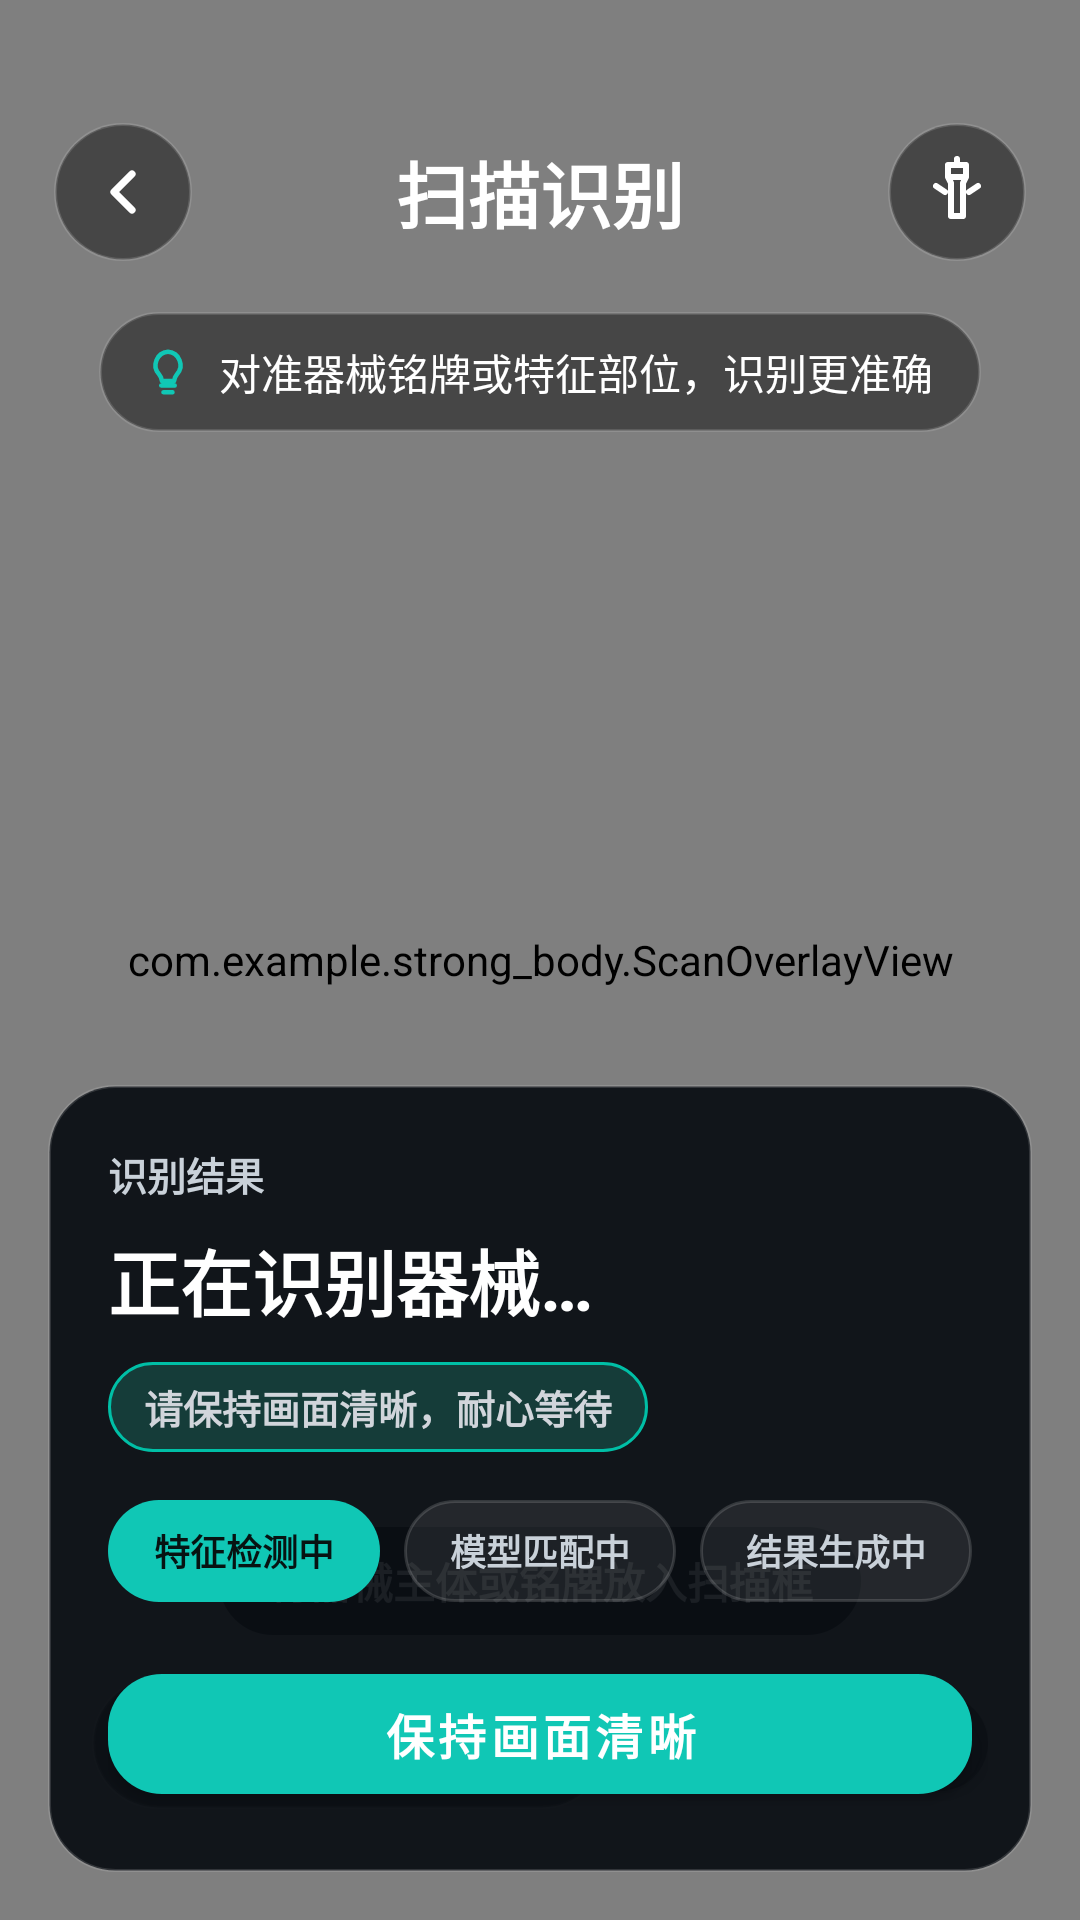

Screen size 1080x1920. Icon name, then its center in pixels as [x,y]:
scan bulb: [168,372]
返回: [123,192]
闪光灯: [957,192]
